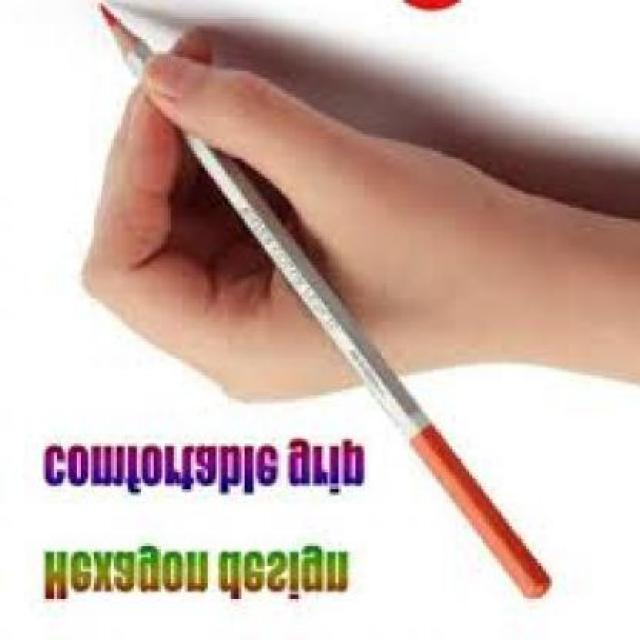Pencil: (92, 0, 156, 83)
